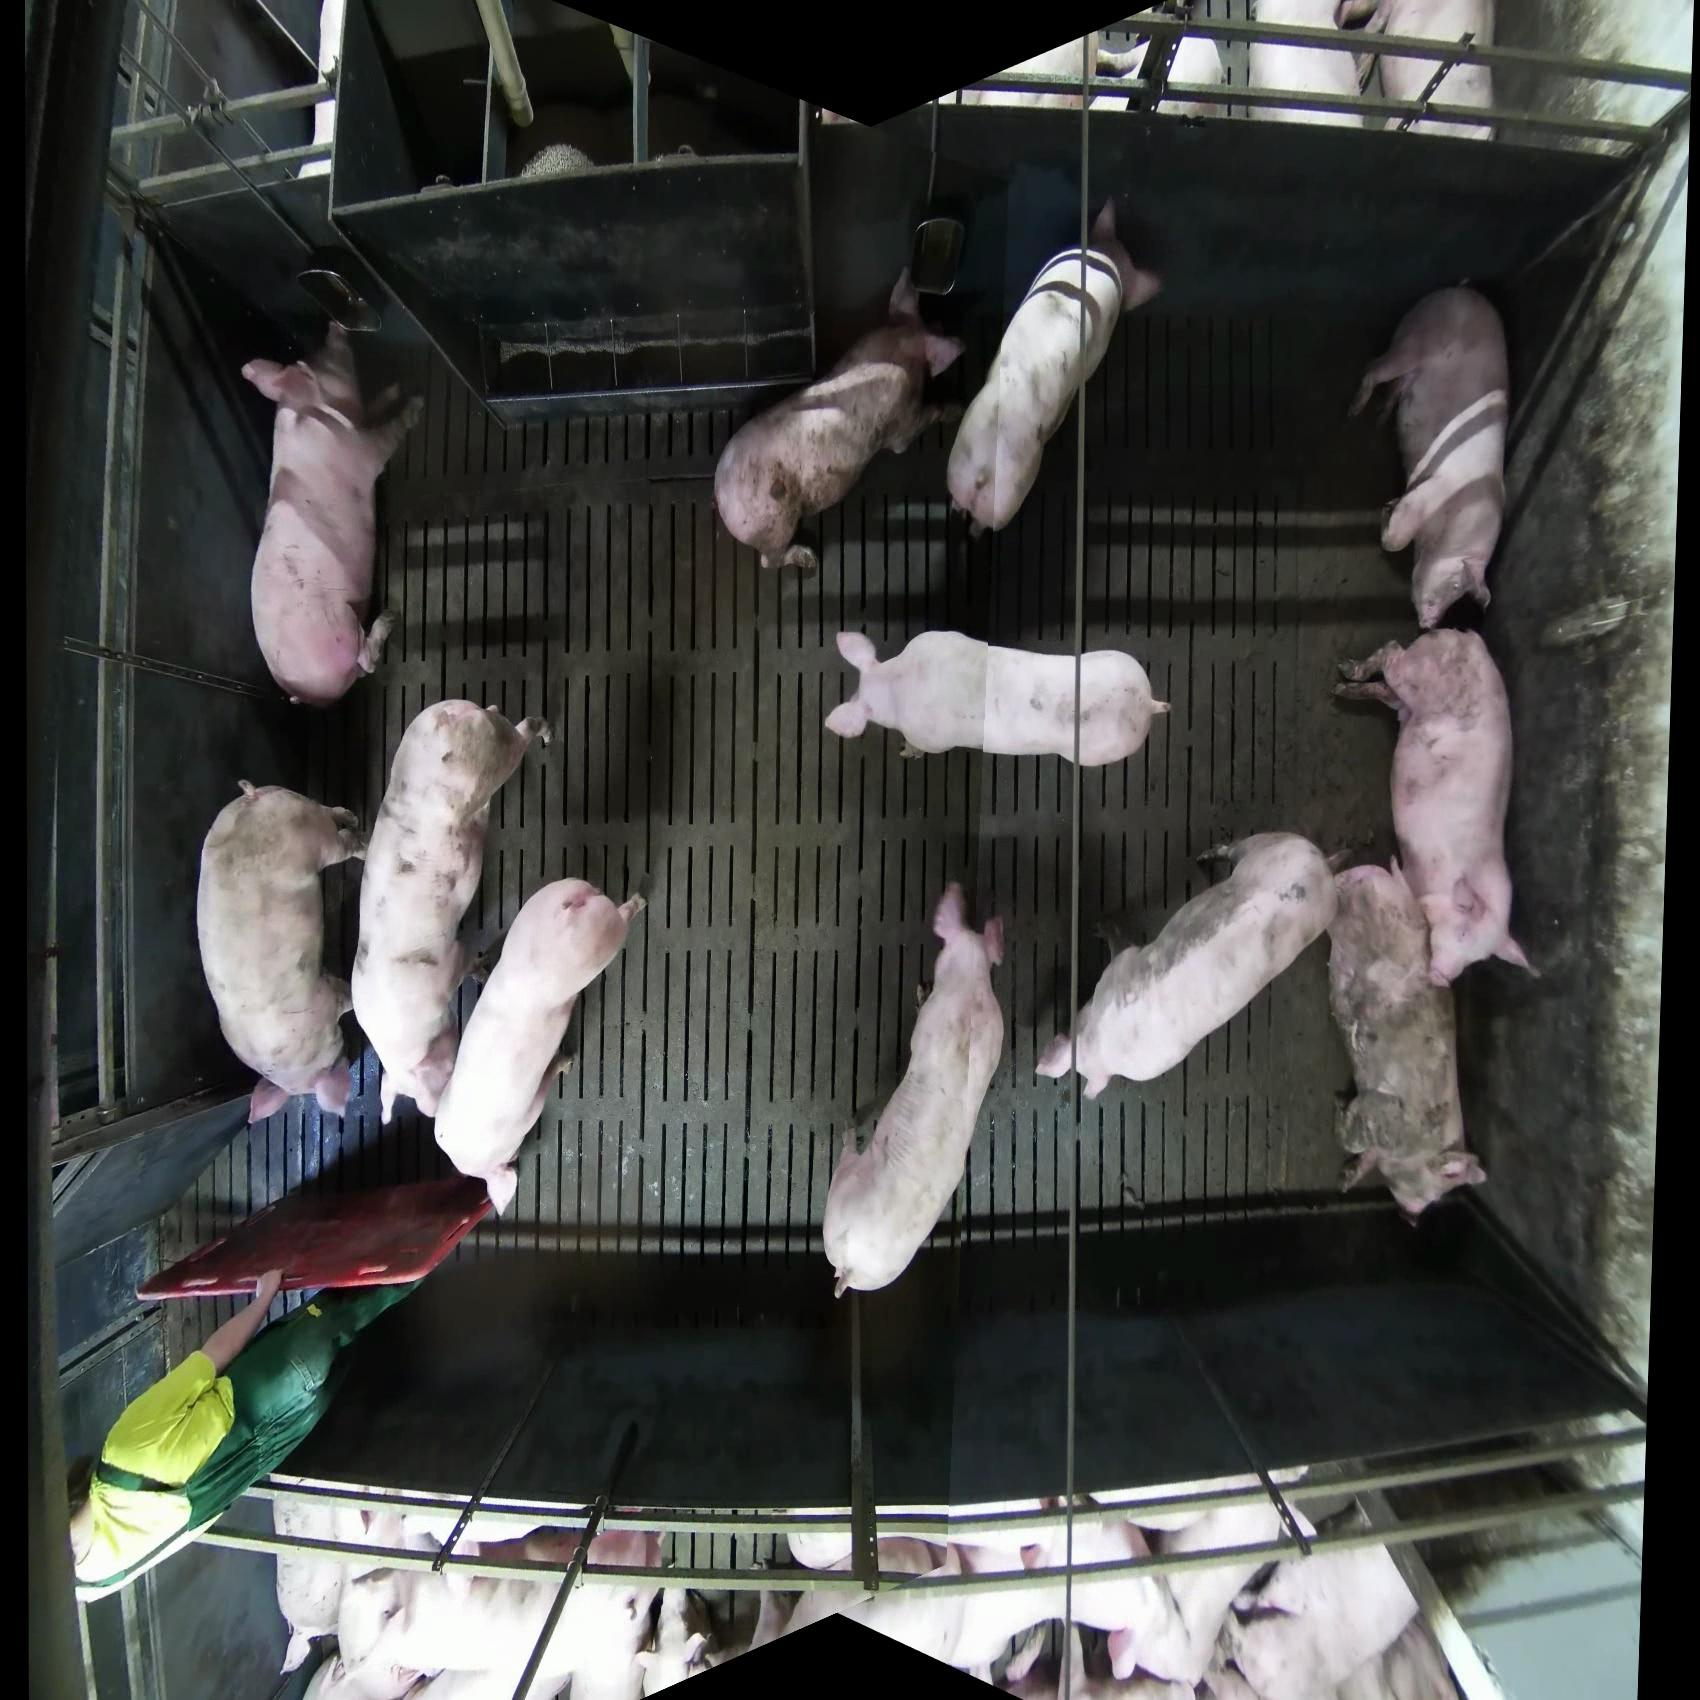pig: (350, 697, 552, 1125), (1035, 830, 1338, 1102), (821, 880, 1007, 1300), (711, 265, 967, 572), (1331, 626, 1541, 990), (944, 195, 1164, 538), (432, 876, 646, 1221), (241, 310, 427, 708), (1324, 861, 1488, 1228), (195, 780, 368, 1126), (1347, 280, 1513, 631), (1207, 1500, 1462, 1700), (823, 627, 1173, 769), (1103, 1501, 1313, 1691), (1335, 1, 1498, 142), (1247, 1, 1379, 127)
worker: (67, 1263, 429, 1605)
